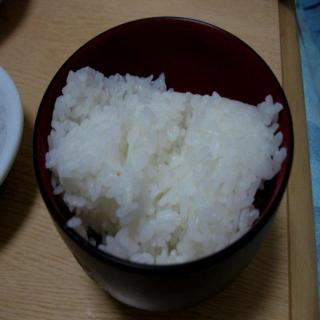Nasi: (45, 66, 289, 266)
